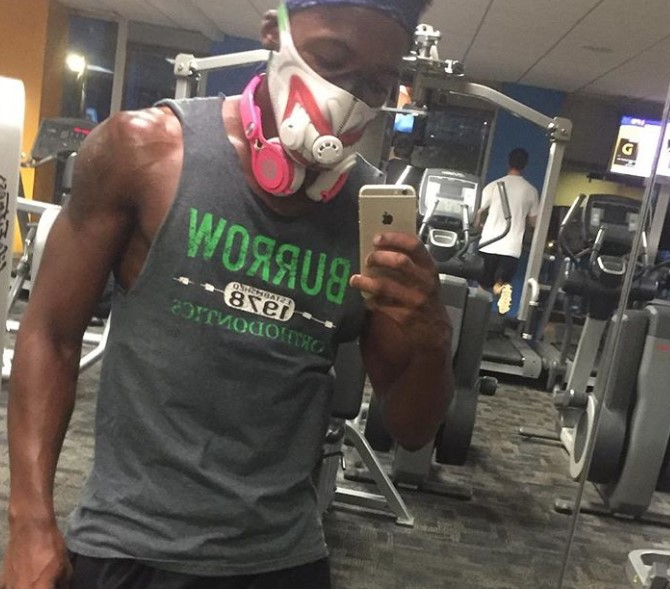face_with_mask: (260, 5, 424, 173)
